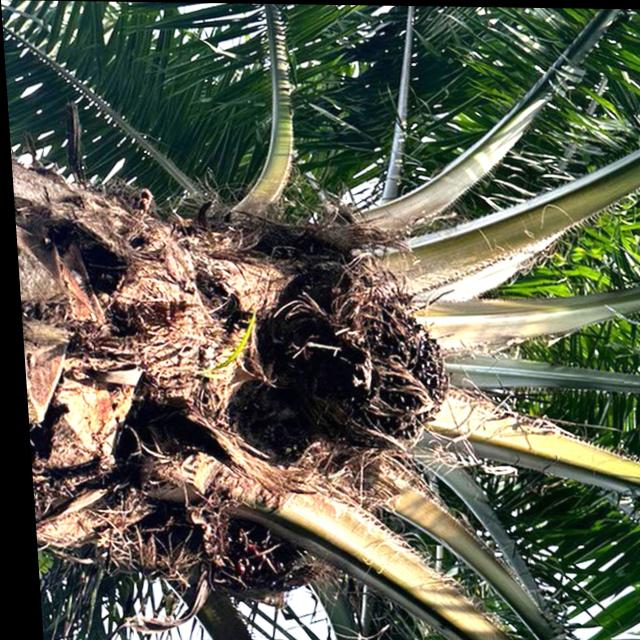unripe: (250, 268, 450, 462)
